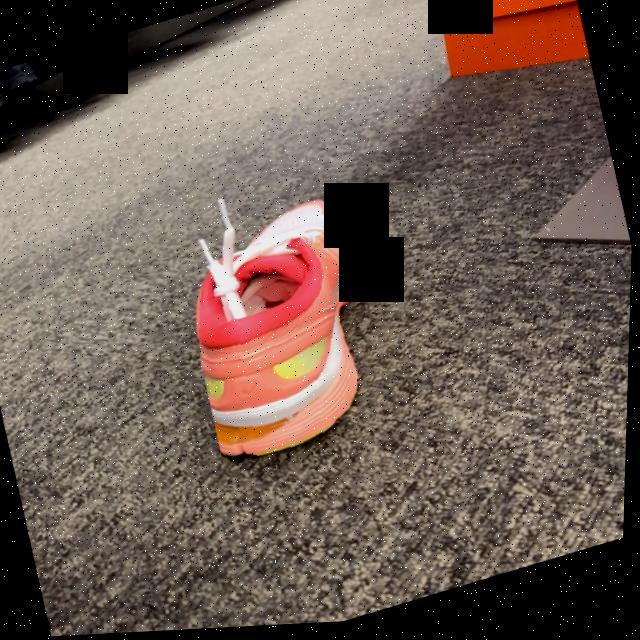shoe: (200, 203, 377, 460)
